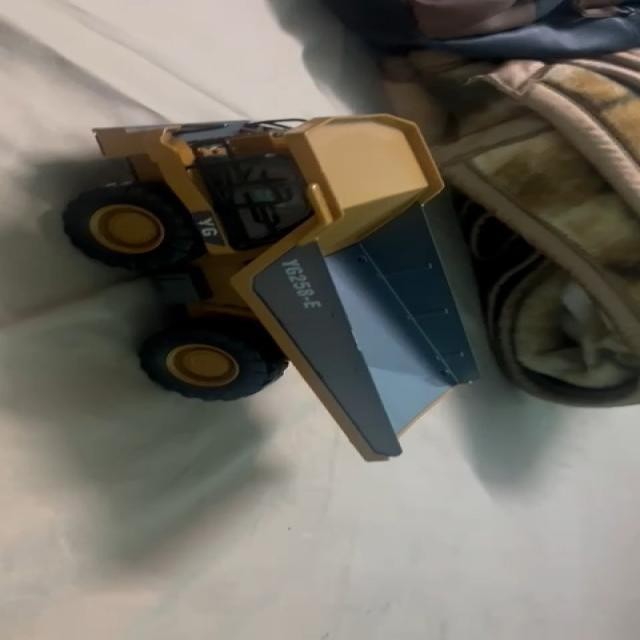dump_truck: (70, 114, 488, 452)
